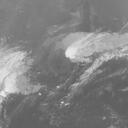cyclone: (33, 34, 83, 84)
